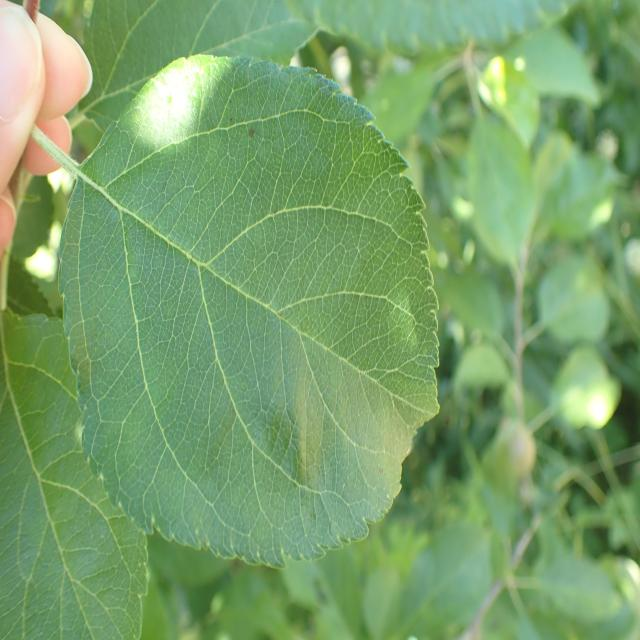healthy: (58, 52, 442, 570), (0, 309, 149, 640), (73, 0, 320, 134)
